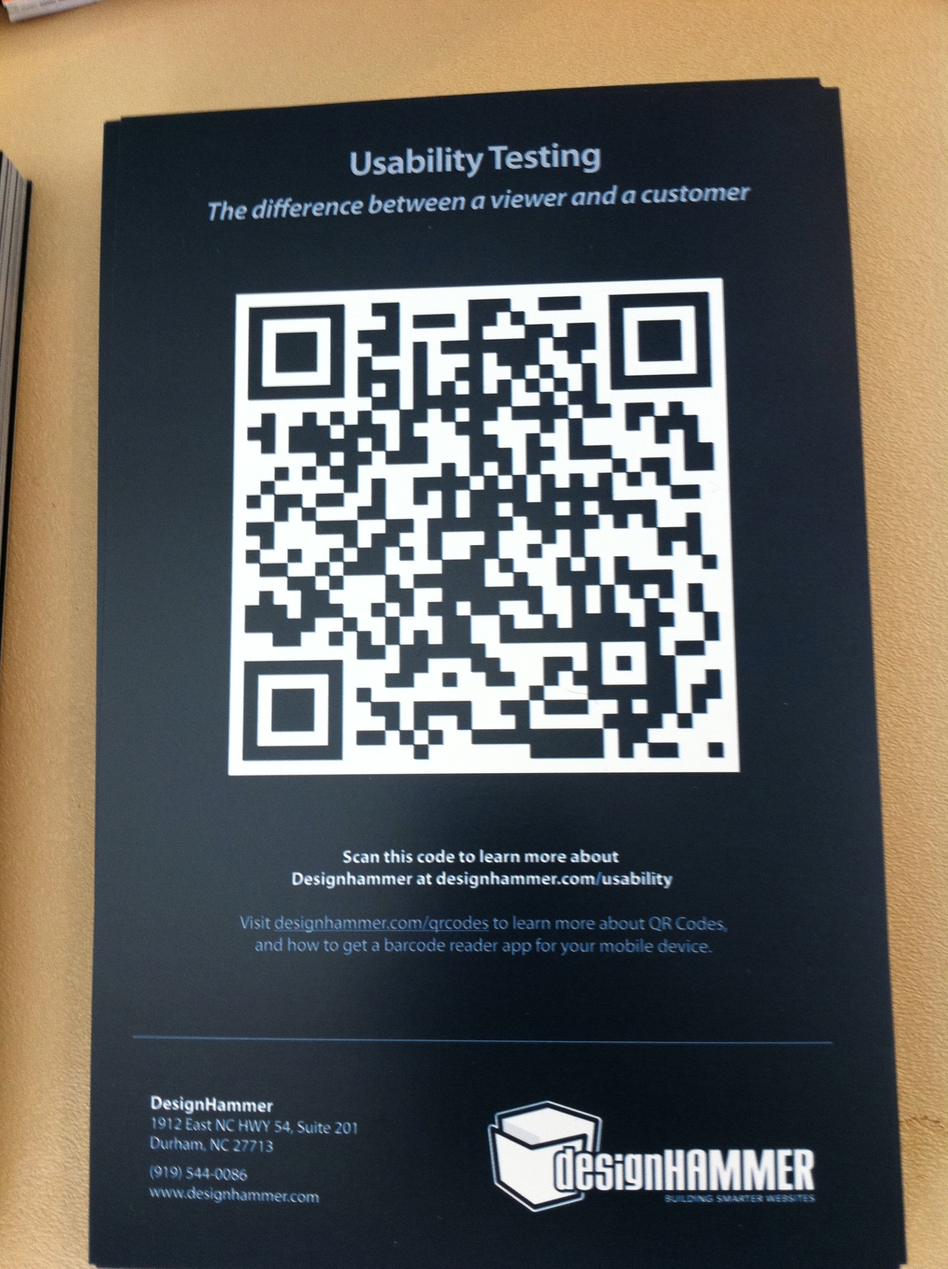QR-CODE: (242, 291, 724, 760)
